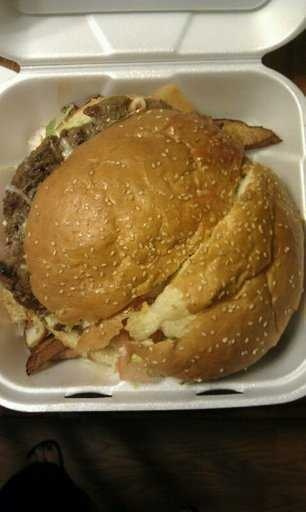hamburger: (1, 96, 283, 379)
